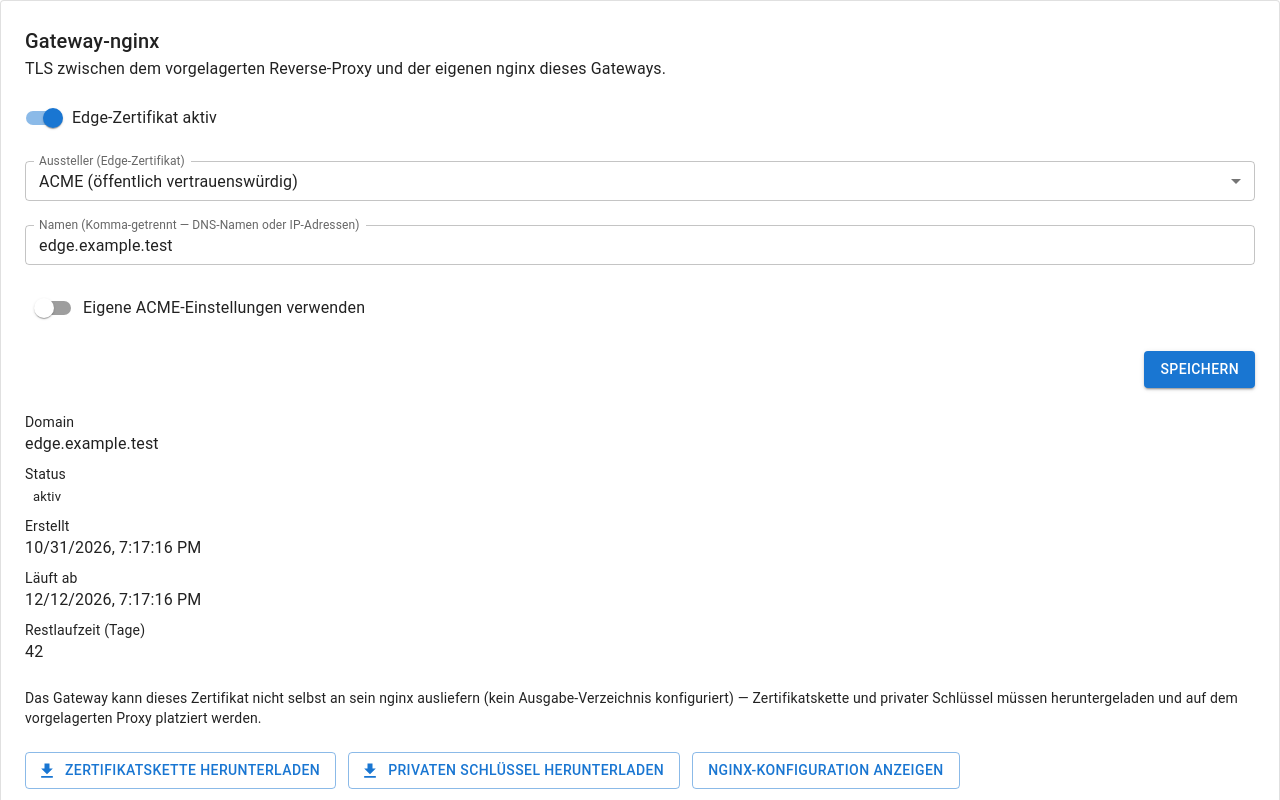
meldet einen 409 certificate.edge_key_managed unterscheidbar von einem generischen Fehler
The image size is (1280, 800).
Click the button "Privaten Schlüssel herunterladen" at [514, 771], box [348, 752, 680, 789]
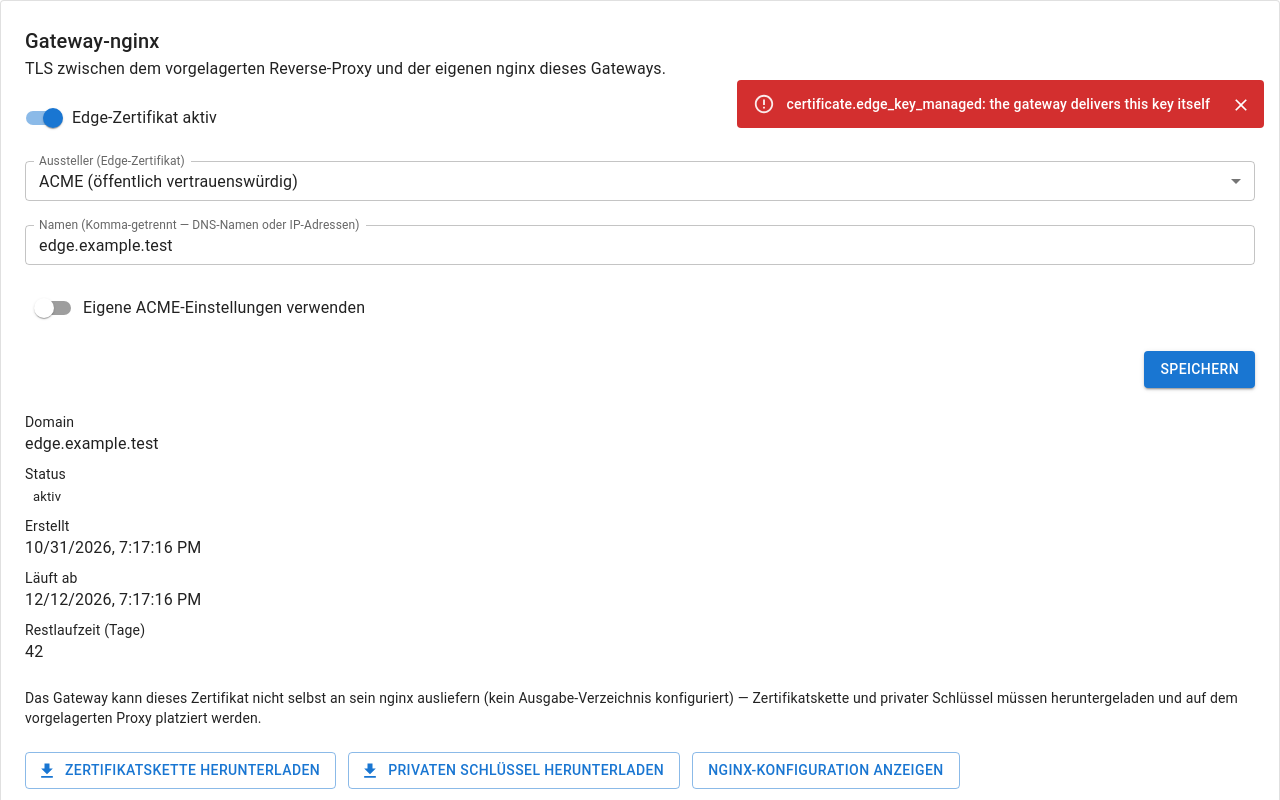
expect the message shows "certificate.edge_key_managed": met, box [786, 96, 1210, 112]
